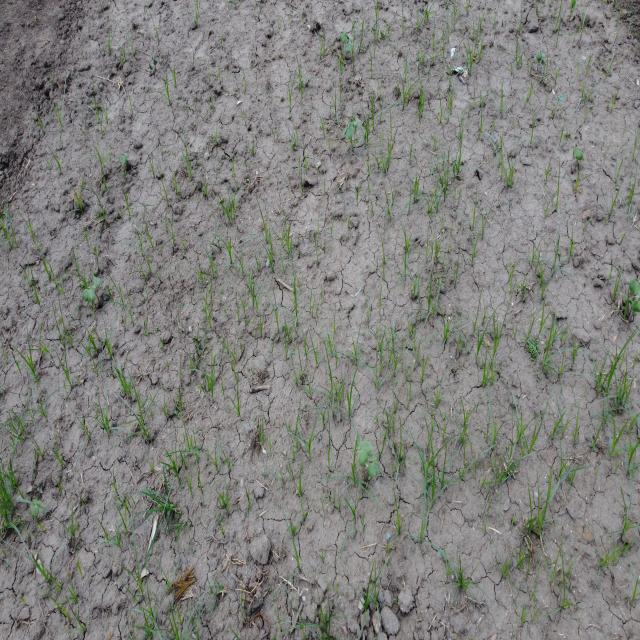seedling_s3: (358, 442, 372, 466), (367, 455, 381, 477), (629, 279, 640, 299), (83, 288, 96, 303), (346, 122, 354, 139), (573, 148, 583, 160), (30, 504, 39, 516), (631, 300, 640, 312), (340, 32, 348, 44), (93, 277, 101, 287), (345, 44, 353, 54), (120, 154, 127, 164), (536, 51, 542, 61), (346, 33, 353, 40), (33, 498, 41, 504), (351, 118, 357, 126), (342, 128, 346, 139), (357, 119, 361, 130), (89, 285, 97, 290), (541, 50, 545, 59), (122, 153, 129, 158)
